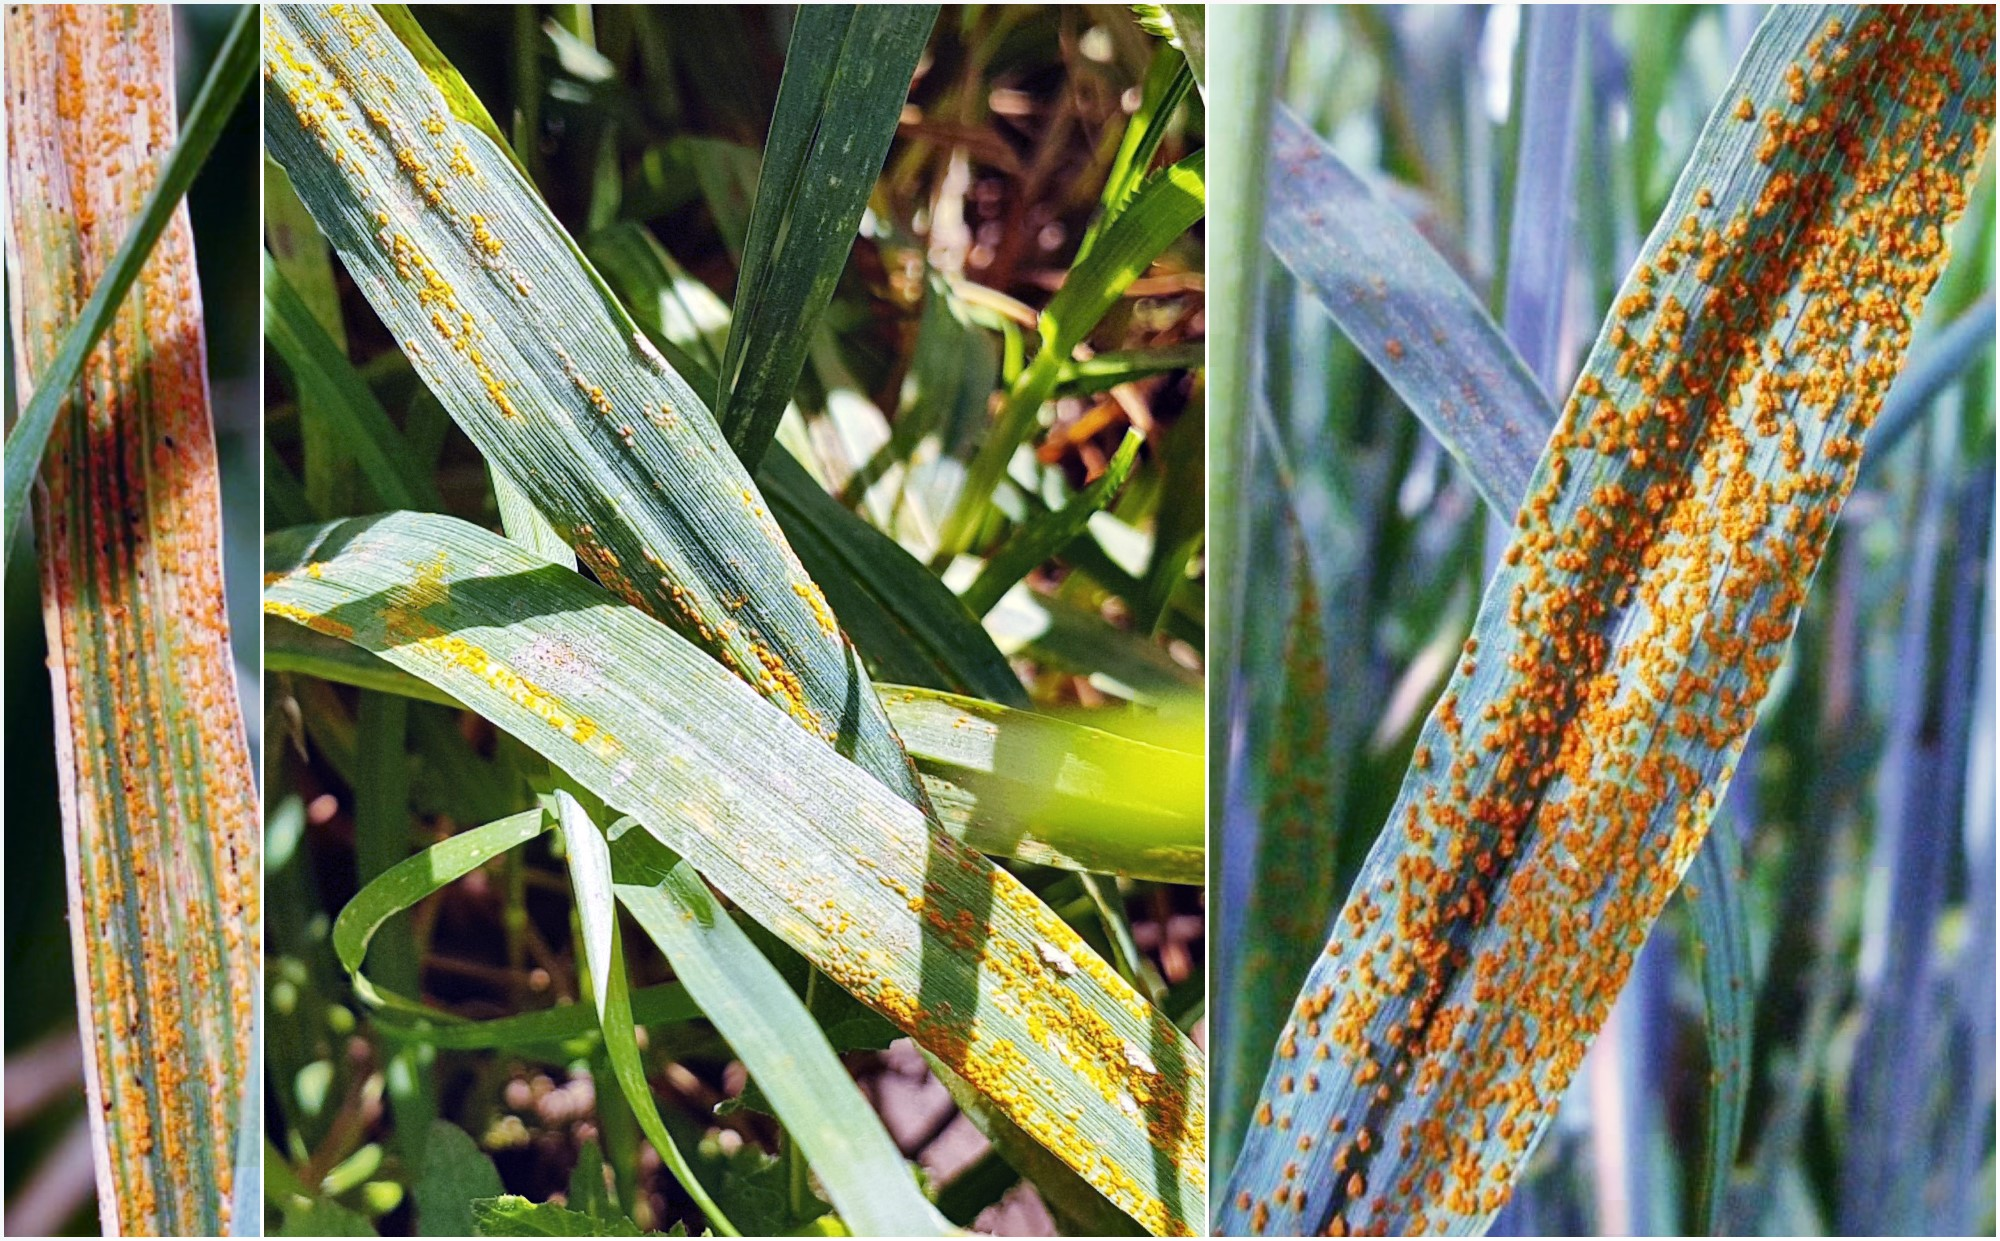Leaf Rust: (1277, 47, 1996, 1197), (14, 83, 273, 1139)
